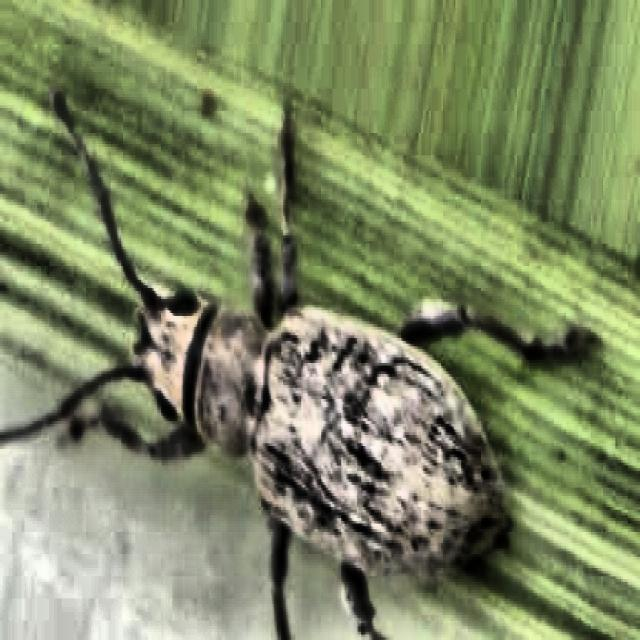Stink bug: (37, 124, 565, 639)
